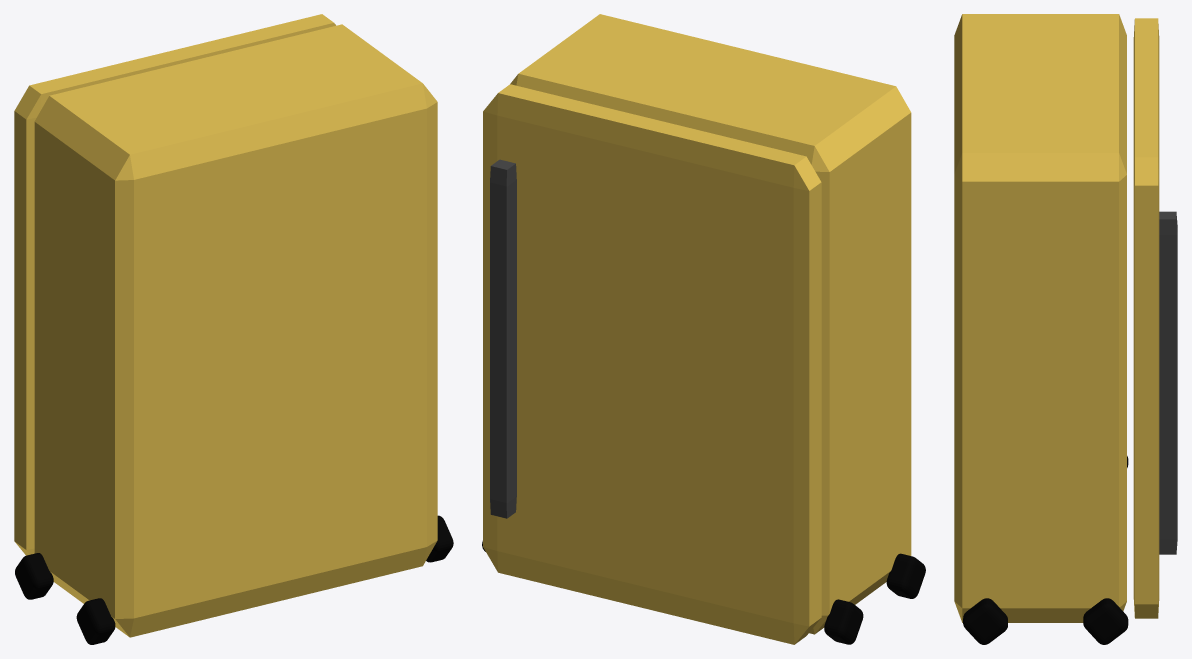
The model's file is small_fridge.glb.
The picture shows the model from 3 angles, left to right: view 1: azimuth 30°, elevation 25°; view 2: azimuth 150°, elevation 25°; view 3: azimuth 270°, elevation 25°; orthographic projection. The views are drawn at different scales.
Parts seen in each view (by area): view 1: Cube.035, Cube.031, Cube.033, Cube.034, Cube.036; view 2: Cube.031, Cube.035, Cube.032, Cube.033, Cube.034; view 3: Cube.035, Cube.031, Cube.032, Cube.037, Cube.036.
Boxes of the visible parts, left/top/right/bottom form: Cube.035: left=34, top=24, right=437, bottom=637; Cube.031: left=14, top=14, right=335, bottom=555; Cube.033: left=15, top=553, right=53, bottom=599; Cube.034: left=76, top=598, right=115, bottom=644; Cube.036: left=426, top=515, right=453, bottom=562; Cube.031: left=483, top=84, right=821, bottom=644; Cube.035: left=510, top=14, right=911, bottom=634; Cube.032: left=490, top=159, right=516, bottom=518; Cube.033: left=824, top=599, right=863, bottom=644; Cube.034: left=886, top=553, right=925, bottom=598; Cube.035: left=954, top=14, right=1126, bottom=622; Cube.031: left=1133, top=18, right=1159, bottom=618; Cube.032: left=1159, top=211, right=1177, bottom=554; Cube.037: left=1083, top=598, right=1128, bottom=644; Cube.036: left=963, top=598, right=1007, bottom=644.
Bounding box in the file's own units: 2.26 × 2.96 × 1.25.
